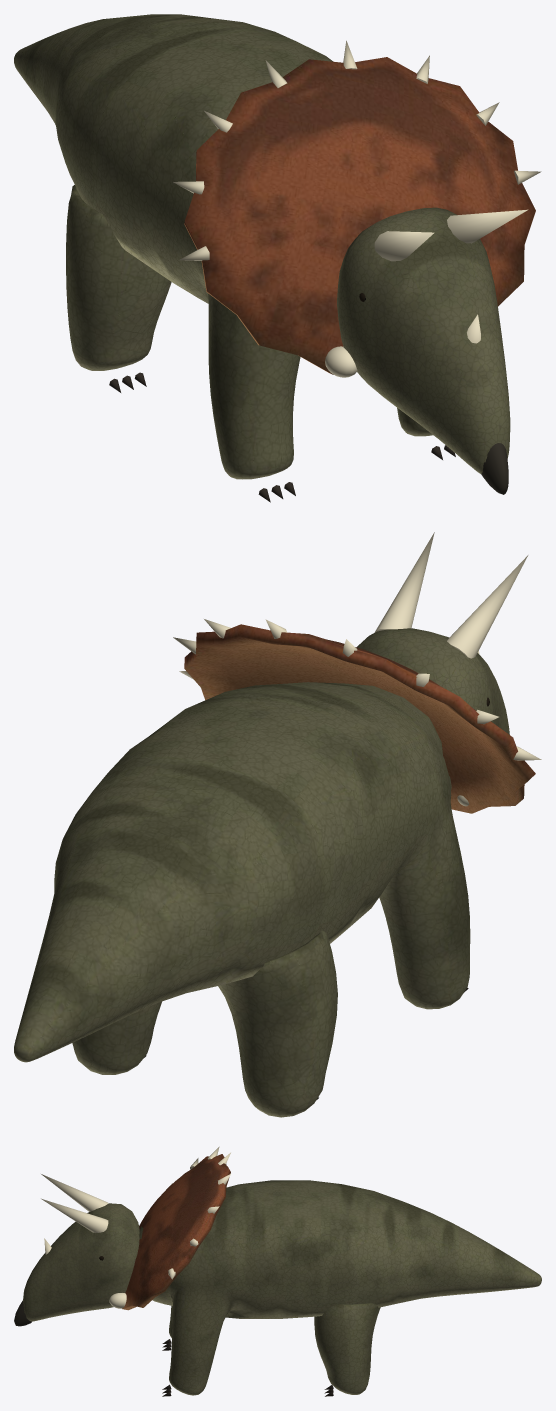
File: triceratops.glb
3 renders of one model, top to bottom at view 1: azimuth 30°, elevation 25°; view 2: azimuth 150°, elevation 25°; view 3: azimuth 270°, elevation 25°, orthographic. The views are drawn at different scales.
Visible parts, largest first — view 1: triceratops; view 2: triceratops; view 3: triceratops.
Part boxes in pixels (<box>): triceratops: <box>14,14,541,502</box>; triceratops: <box>14,532,541,1117</box>; triceratops: <box>14,1146,541,1396</box>.
Bounding box in the file's own units: 4 × 4.02 × 9.27.
8 materials, 3 textured.
